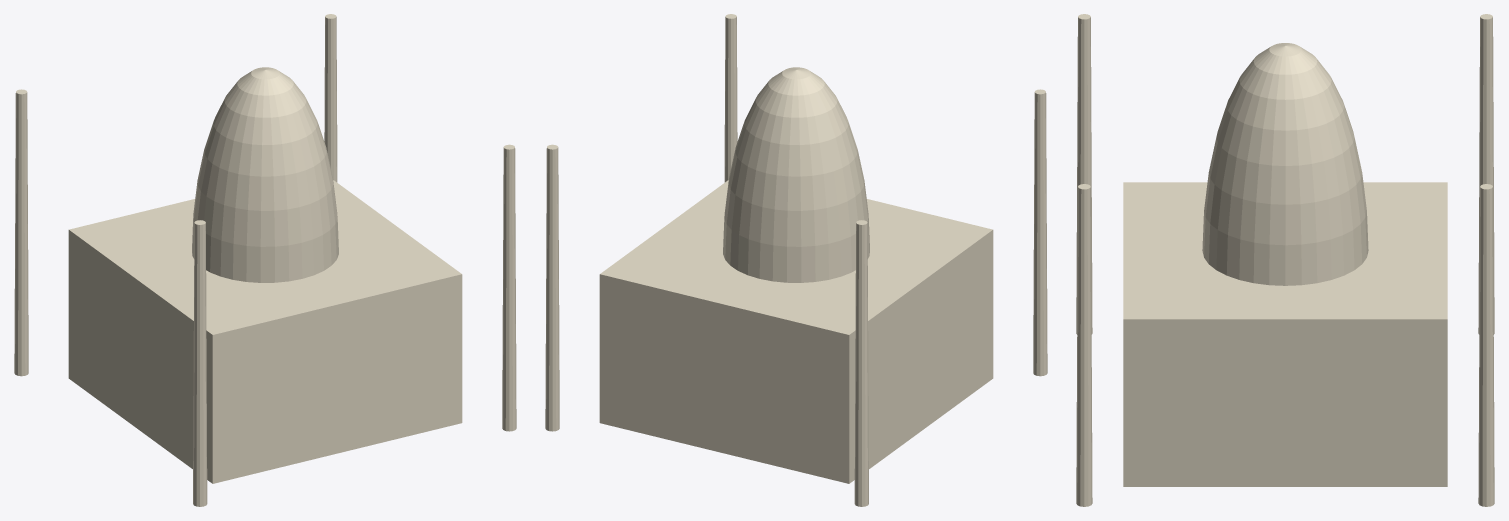
File: place-cairo-citadel.glb
3 views of the same model, side by side, from view 1: azimuth 30°, elevation 25°; view 2: azimuth 150°, elevation 25°; view 3: azimuth 270°, elevation 25° (orthographic). The views are drawn at different scales.
Visible parts, largest first — view 1: place-cairo-citadel; view 2: place-cairo-citadel; view 3: place-cairo-citadel.
Part boxes in pixels (left/top/right/bottom): place-cairo-citadel: left=14, top=14, right=516, bottom=506; place-cairo-citadel: left=545, top=14, right=1047, bottom=506; place-cairo-citadel: left=1076, top=14, right=1494, bottom=506.
Size of the model in its own units: 52.89 by 52 by 52.89.
